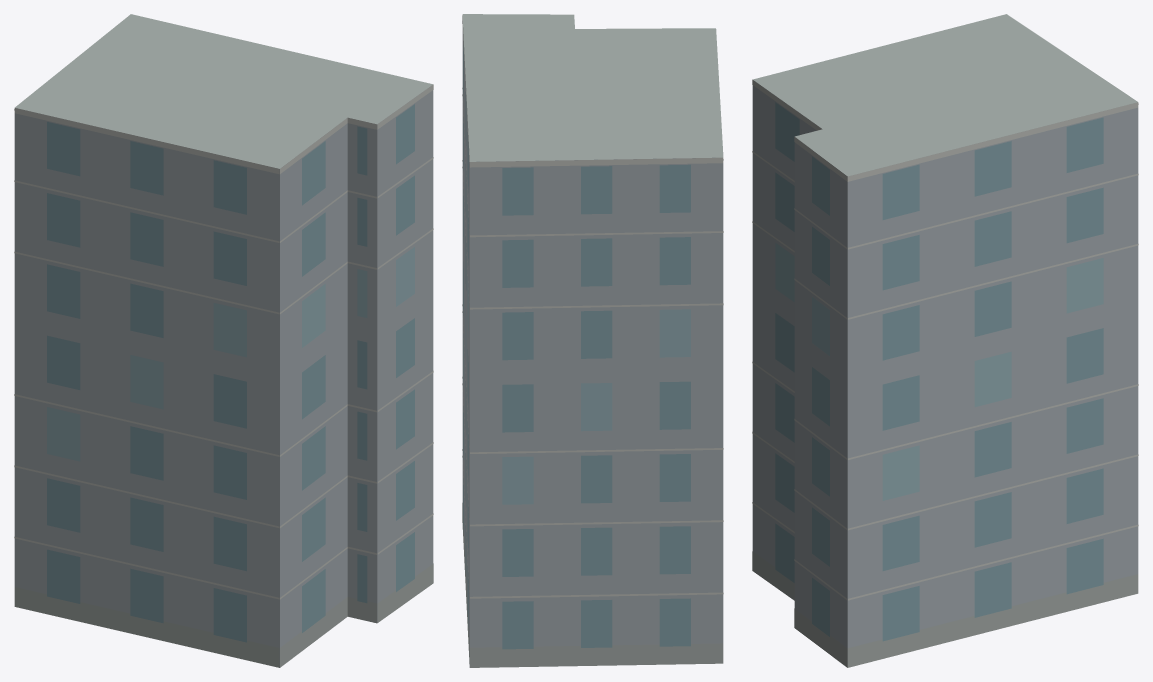
File: survey-upis-32992460.glb
3 views of the same model, side by side, from view 1: azimuth 30°, elevation 25°; view 2: azimuth 150°, elevation 25°; view 3: azimuth 270°, elevation 25° (orthographic). The views are drawn at different scales.
Visible parts, largest first — view 1: survey-upis-32992460.tmp; view 2: survey-upis-32992460.tmp; view 3: survey-upis-32992460.tmp.
Boxes of the visible parts, <box> form: survey-upis-32992460.tmp: <box>14,14,433,667</box>; survey-upis-32992460.tmp: <box>462,14,723,667</box>; survey-upis-32992460.tmp: <box>752,14,1138,667</box>.
Size of the model in its own units: 15.62 by 22 by 15.68.
